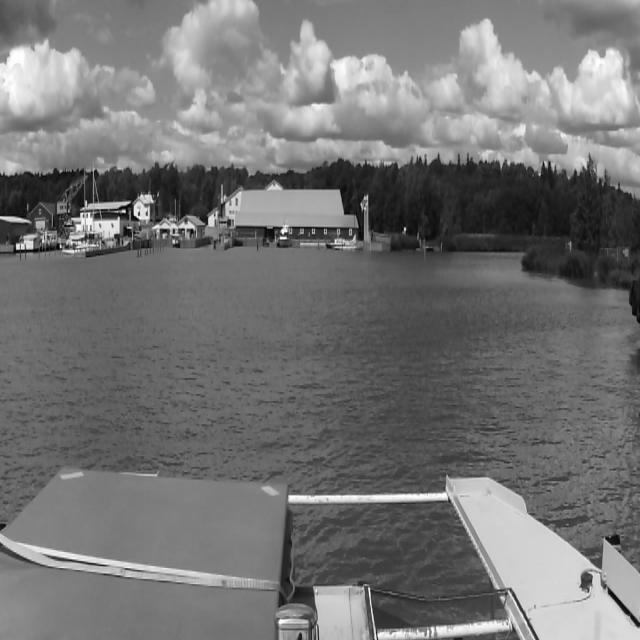ship: (329, 160, 361, 251), (277, 225, 290, 249)
